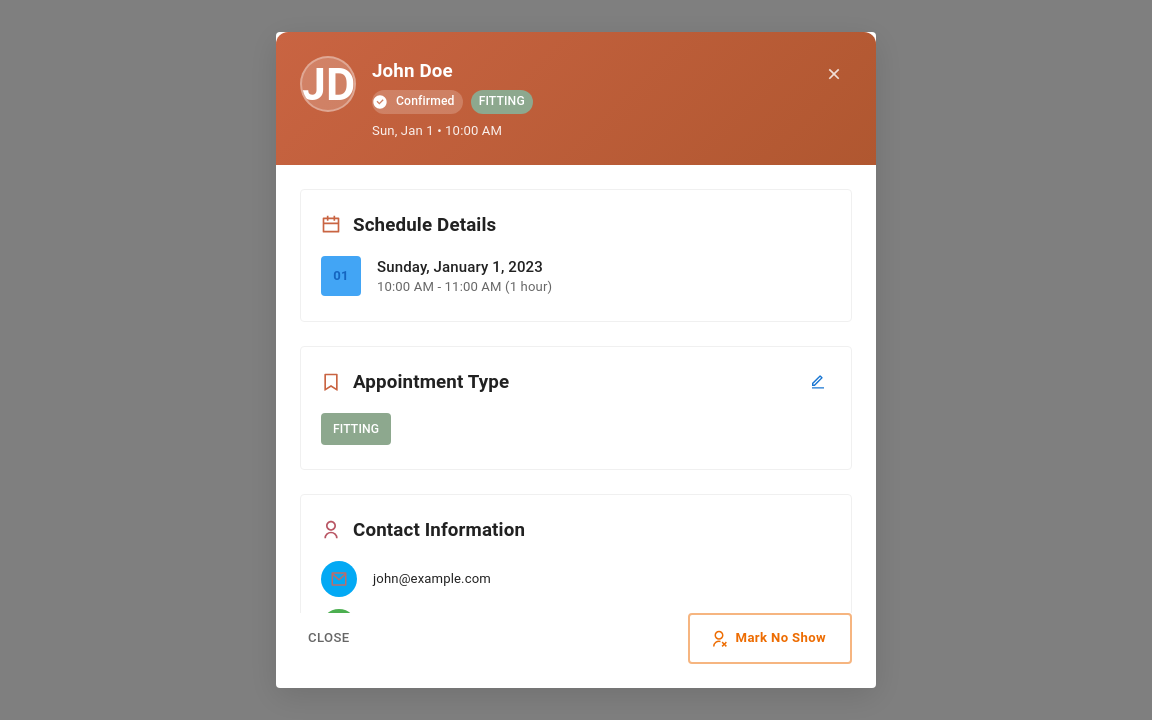
Scenario: AppointmentDetailsDialog - Mark No Show › should show loading spinner when marking as no-show
The width and height of the screenshot is (1152, 720).
Click the button
Click the button "Mark No Show" at (770, 638), box [688,613,852,664]
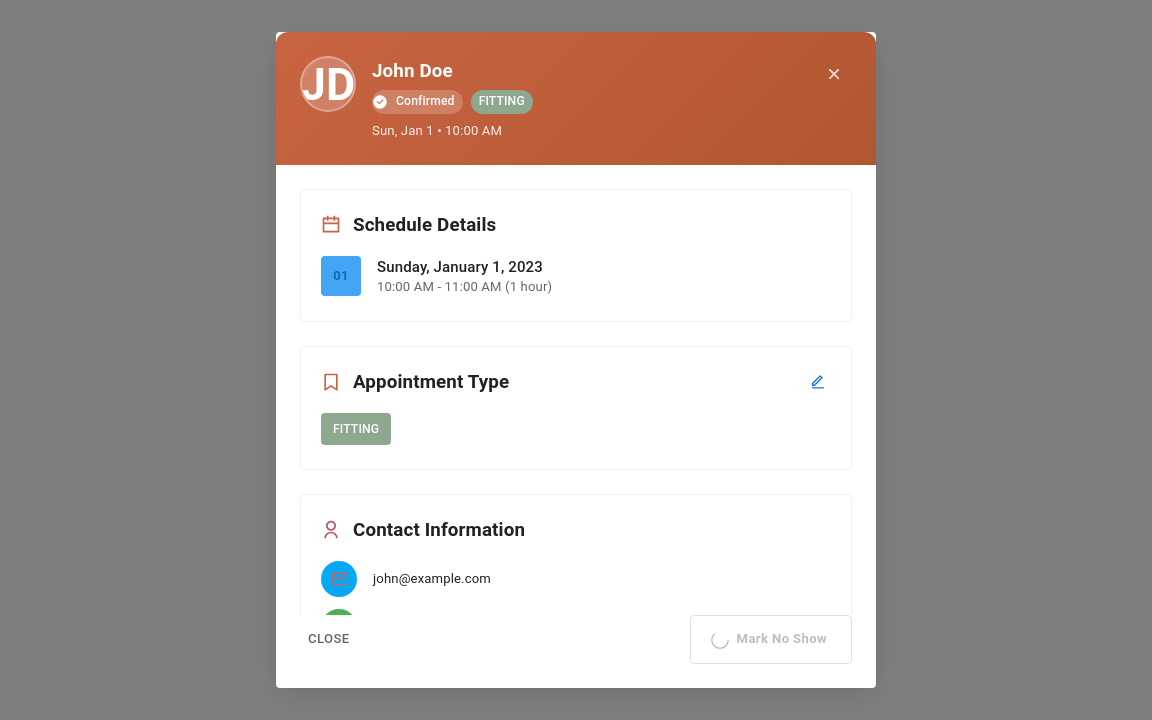
Now the progress indicator is shown, box [710,630,728,648]
Now the button "Mark No Show" is disabled, box [690,615,852,664]
